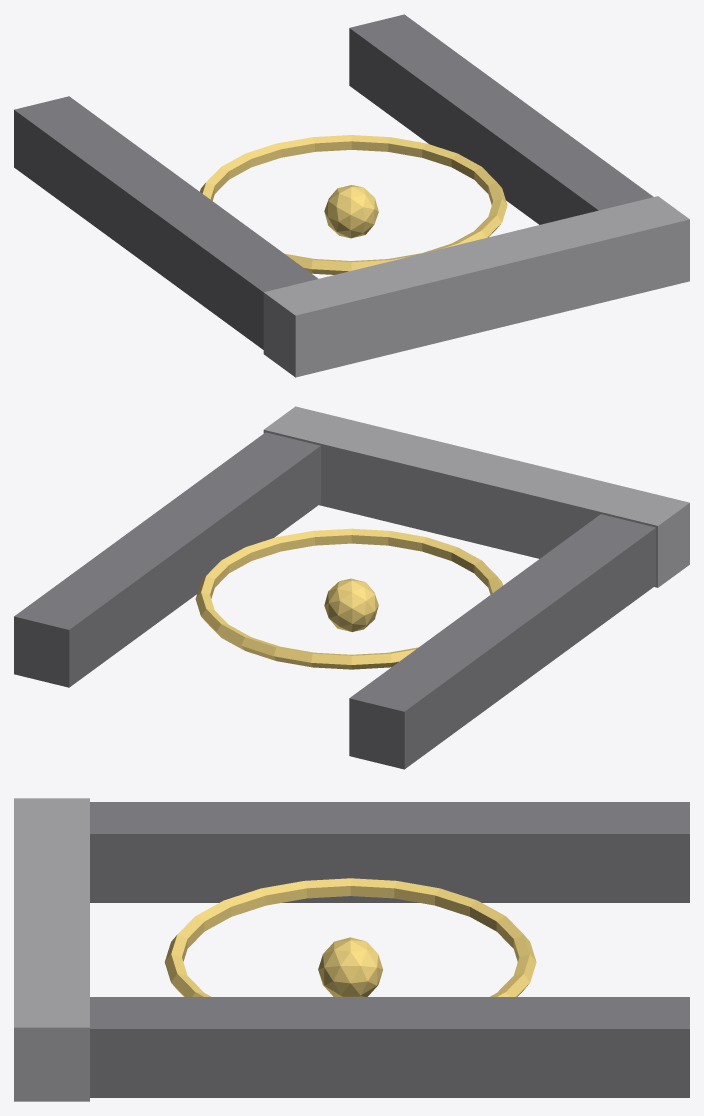
Rendered from portal_gate_travel.glb.
The picture shows the model from 3 angles, top to bottom: view 1: azimuth 30°, elevation 25°; view 2: azimuth 150°, elevation 25°; view 3: azimuth 270°, elevation 25°; orthographic projection. The views are drawn at different scales.
Parts seen in each view (by area): view 1: lintel, pillar_left, pillar_right, energy_ring, core_light; view 2: pillar_left, pillar_right, lintel, energy_ring, core_light; view 3: pillar_right, pillar_left, lintel, energy_ring, core_light.
Part boxes in pixels (x1=…): lintel: x1=263, y1=196, x2=689, y2=377; pillar_left: x1=14, y1=96, x2=318, y2=349; pillar_right: x1=349, y1=14, x2=653, y2=224; energy_ring: x1=200, y1=135, x2=507, y2=274; core_light: x1=324, y1=185, x2=378, y2=238; pillar_left: x1=349, y1=514, x2=655, y2=769; pillar_right: x1=14, y1=432, x2=320, y2=687; lintel: x1=263, y1=406, x2=689, y2=587; energy_ring: x1=195, y1=528, x2=503, y2=669; core_light: x1=324, y1=578, x2=378, y2=631; pillar_right: x1=90, y1=997, x2=689, y2=1097; pillar_left: x1=90, y1=802, x2=689, y2=902; lintel: x1=14, y1=798, x2=89, y2=1101; energy_ring: x1=164, y1=878, x2=536, y2=996; core_light: x1=318, y1=937, x2=382, y2=996.
Size of the model in its own units: 2 by 0.35 by 2.49.
